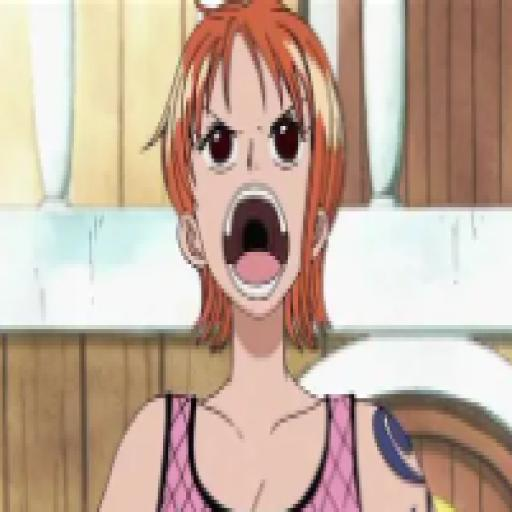Nami: (94, 15, 438, 512)
